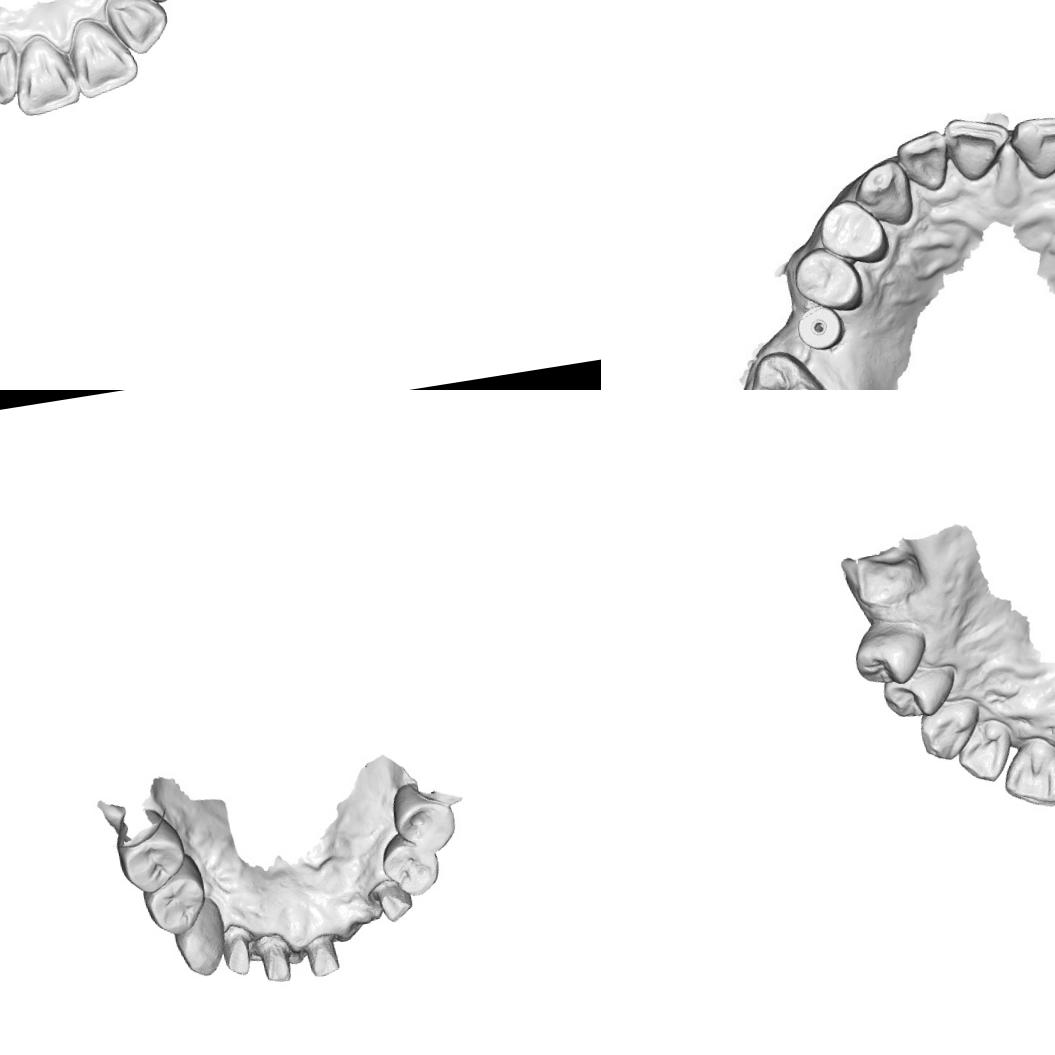canine: (168, 894, 232, 982), (848, 156, 918, 232), (914, 694, 986, 764)
crown: (366, 874, 416, 926), (298, 928, 346, 982), (219, 919, 260, 980), (254, 931, 296, 986)
implant: (792, 302, 848, 354)
incisor: (64, 9, 142, 101), (7, 28, 82, 119), (940, 108, 1016, 188), (995, 730, 1055, 814), (952, 716, 1020, 786), (102, 0, 174, 59), (892, 128, 952, 197), (1009, 110, 1055, 182), (0, 44, 15, 107)
molar: (739, 343, 836, 390)
premolar: (112, 816, 192, 900), (138, 852, 212, 942), (848, 613, 932, 692), (384, 777, 461, 860), (879, 661, 968, 722), (376, 828, 444, 902), (792, 245, 864, 314), (817, 198, 887, 265)
